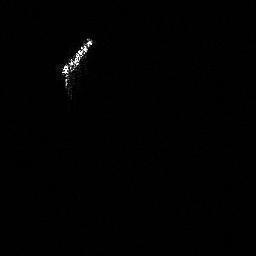ship: (55, 39, 97, 87)
